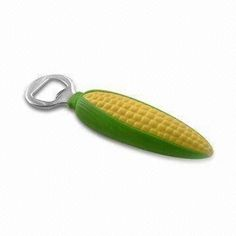bottleopener: (22, 72, 214, 160)
